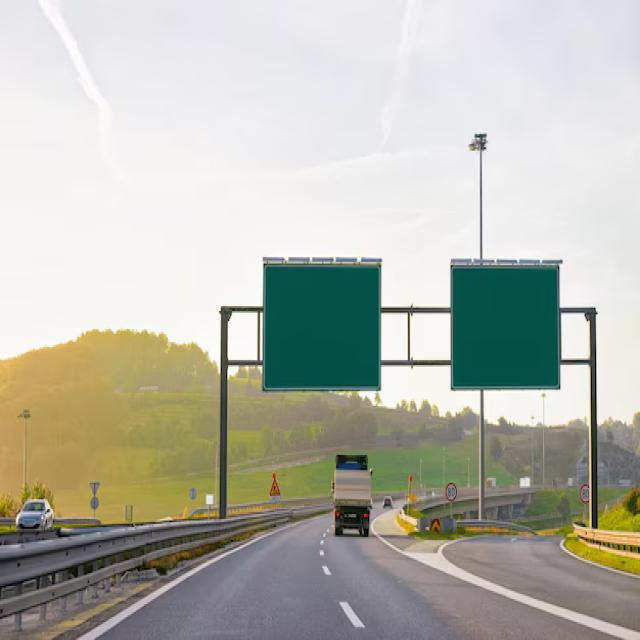Billboard_overhead: (256, 252, 392, 399), (444, 249, 570, 398)
Billboard_small: (86, 465, 105, 533), (445, 480, 470, 508), (264, 467, 282, 504), (187, 478, 201, 504), (578, 481, 591, 506), (520, 465, 533, 488), (203, 488, 214, 507)
Roadcorner: (78, 511, 308, 638), (548, 542, 637, 589), (371, 507, 417, 571)
Roadlane: (307, 514, 385, 633)
